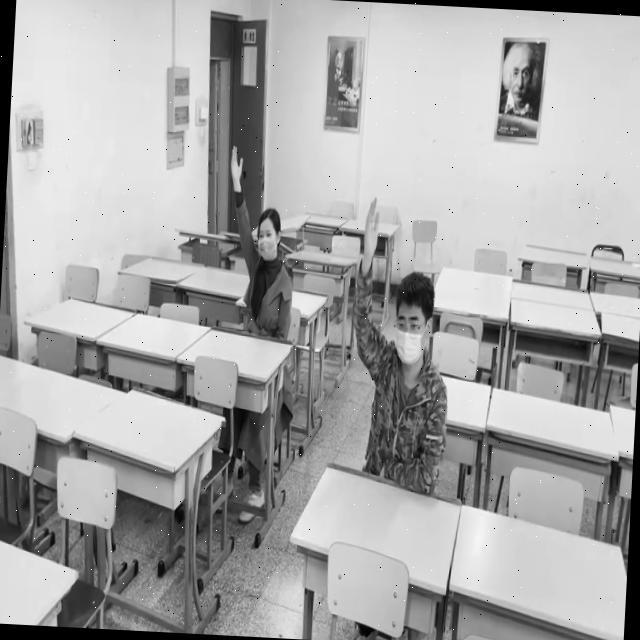study: (347, 197, 458, 478), (222, 145, 299, 334)
